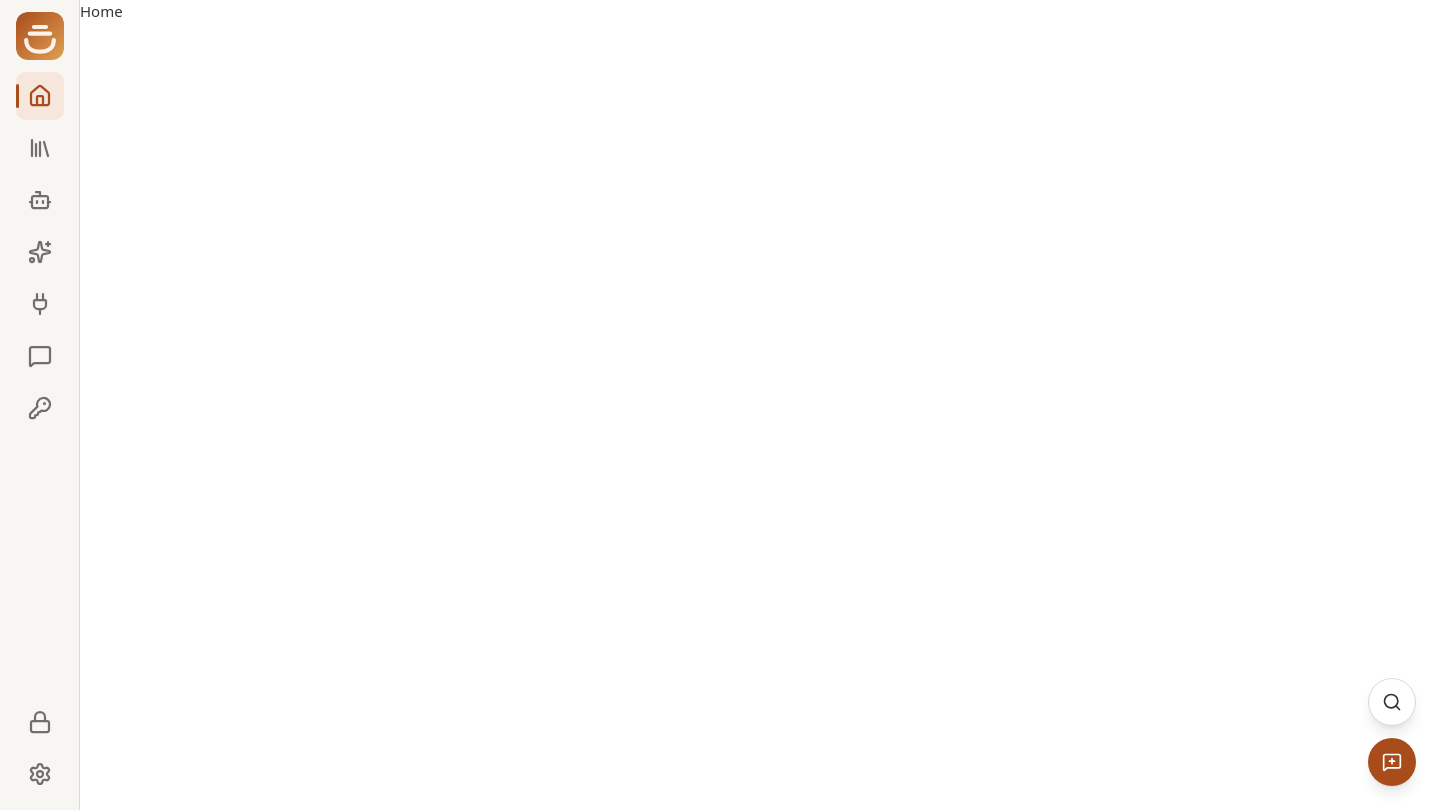
Test: clicking the button opens the panel with the most recent active chat's ChatWindow
The width and height of the screenshot is (1440, 810).
Click the button named "open chat" at [1392, 762], box [1368,738,1416,786]
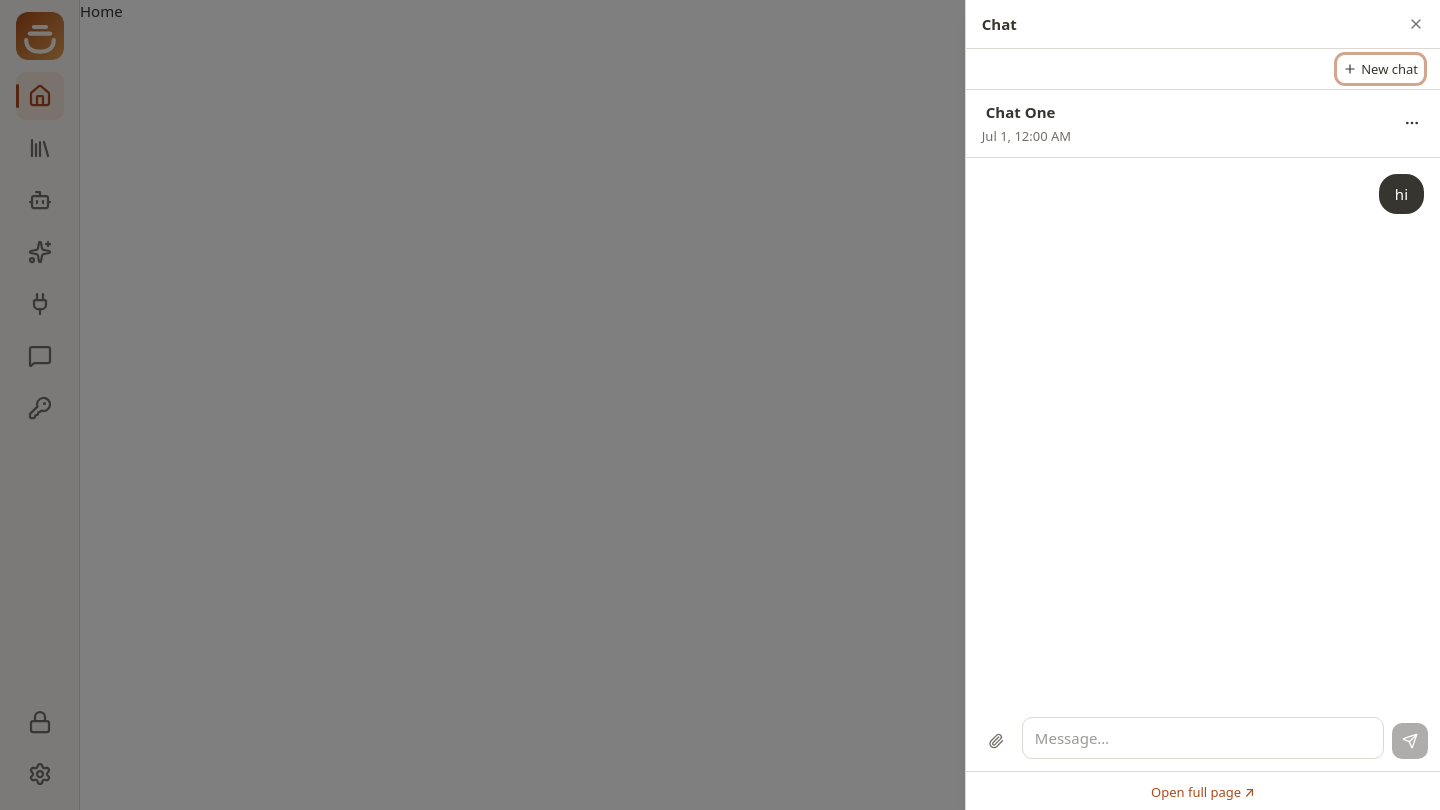
Result: the heading "Chat One" is shown at [986,102,1055,122]
Result: the heading "Chat" is shown at [982,14,1017,34]
